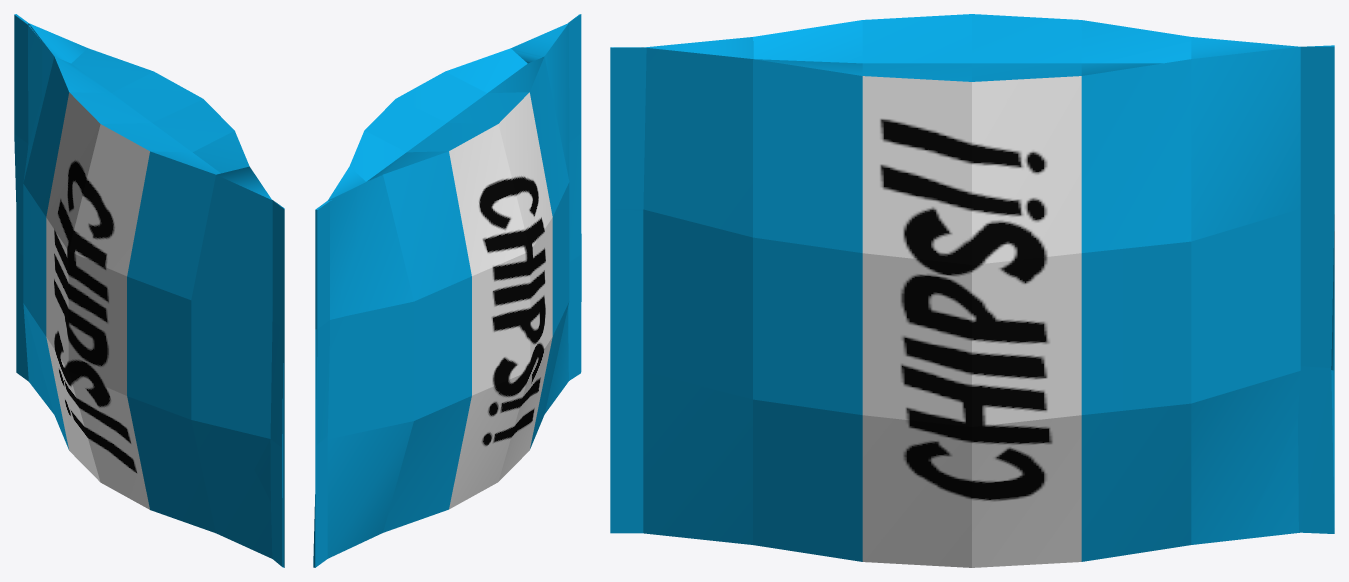
Rendered from Chips.002.obj.
The picture shows the model from 3 angles, left to right: view 1: azimuth 30°, elevation 25°; view 2: azimuth 150°, elevation 25°; view 3: azimuth 270°, elevation 25°; orthographic projection. The views are drawn at different scales.
Parts seen in each view (by area): view 1: Chips.002; view 2: Chips.002; view 3: Chips.002.
Boxes of the visible parts, bbox=[...] form: Chips.002: bbox=[14, 14, 284, 567]; Chips.002: bbox=[313, 14, 581, 567]; Chips.002: bbox=[610, 14, 1334, 567].
Bounding box in the file's own units: 0.0794 × 0.1632 × 0.2204.
Materials: 1 (1 with a texture image).
